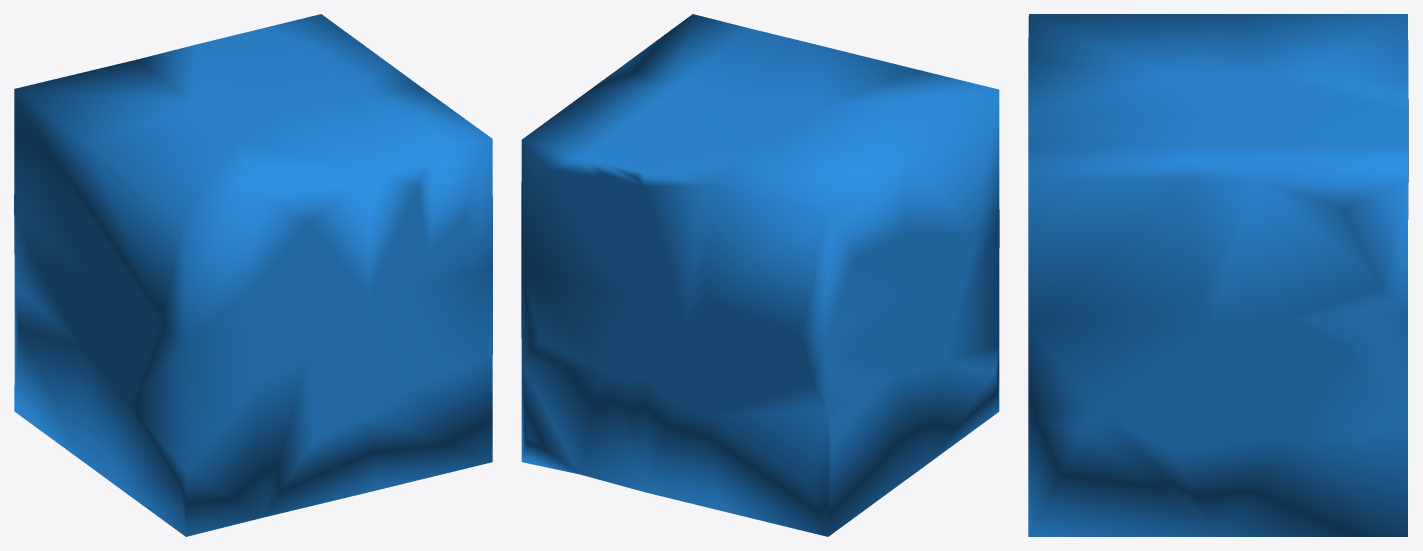
The model's file is runtime.glb.
3 renders of one model, left to right at view 1: azimuth 30°, elevation 25°; view 2: azimuth 150°, elevation 25°; view 3: azimuth 270°, elevation 25°, orthographic. The views are drawn at different scales.
Parts seen in each view (by area): view 1: tripo_node_d49ab52d-3513-4c35-8b39-d3697863517f; view 2: tripo_node_d49ab52d-3513-4c35-8b39-d3697863517f; view 3: tripo_node_d49ab52d-3513-4c35-8b39-d3697863517f.
Boxes of the visible parts, x1,y1,x2,y2 form: tripo_node_d49ab52d-3513-4c35-8b39-d3697863517f: (14, 14, 492, 536); tripo_node_d49ab52d-3513-4c35-8b39-d3697863517f: (521, 14, 999, 536); tripo_node_d49ab52d-3513-4c35-8b39-d3697863517f: (1028, 14, 1408, 536).
Size of the model in its own units: 0.9946 by 1 by 0.9642.
